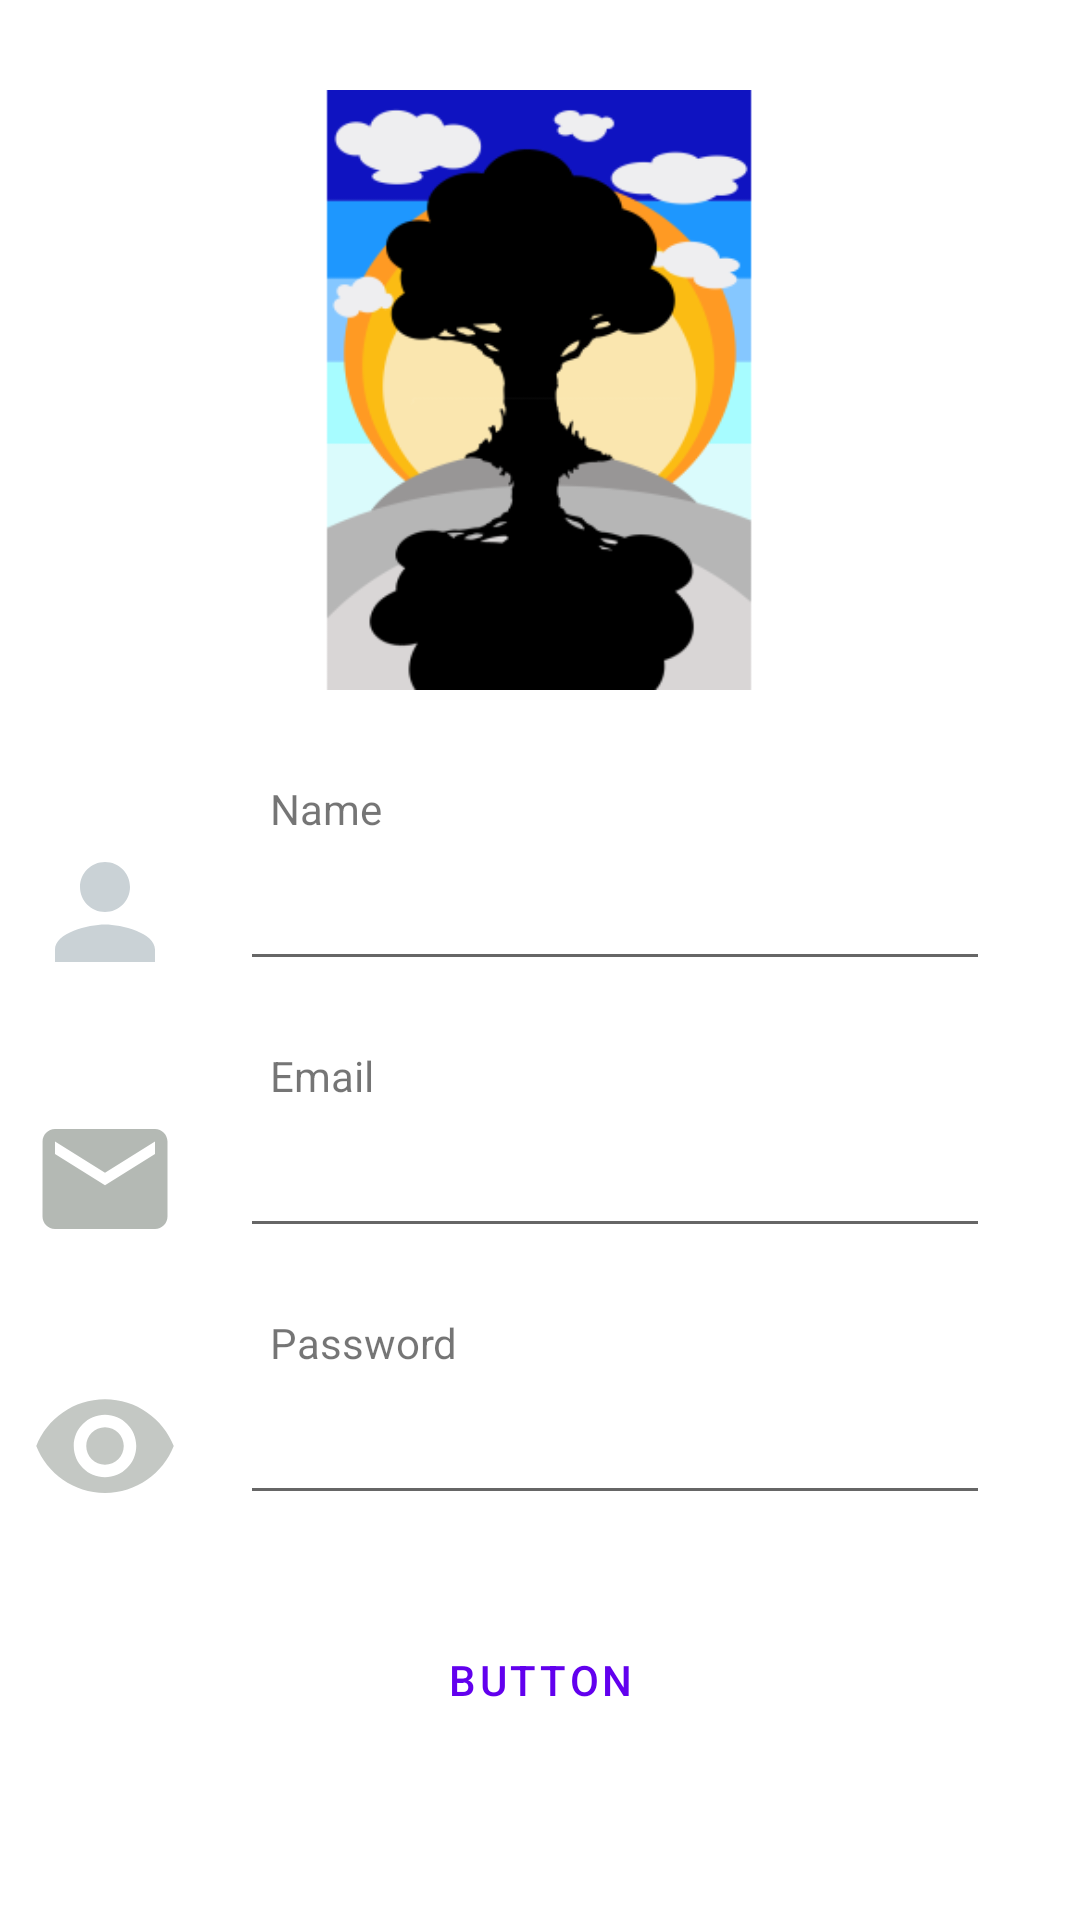

Named icons in this screenshot (1080x1920) and their bounding boxes, [left=x1, top=y1, right=x2, bottom=y2]:
eye: [left=36, top=1399, right=174, bottom=1493]
person: [left=55, top=862, right=155, bottom=962]
